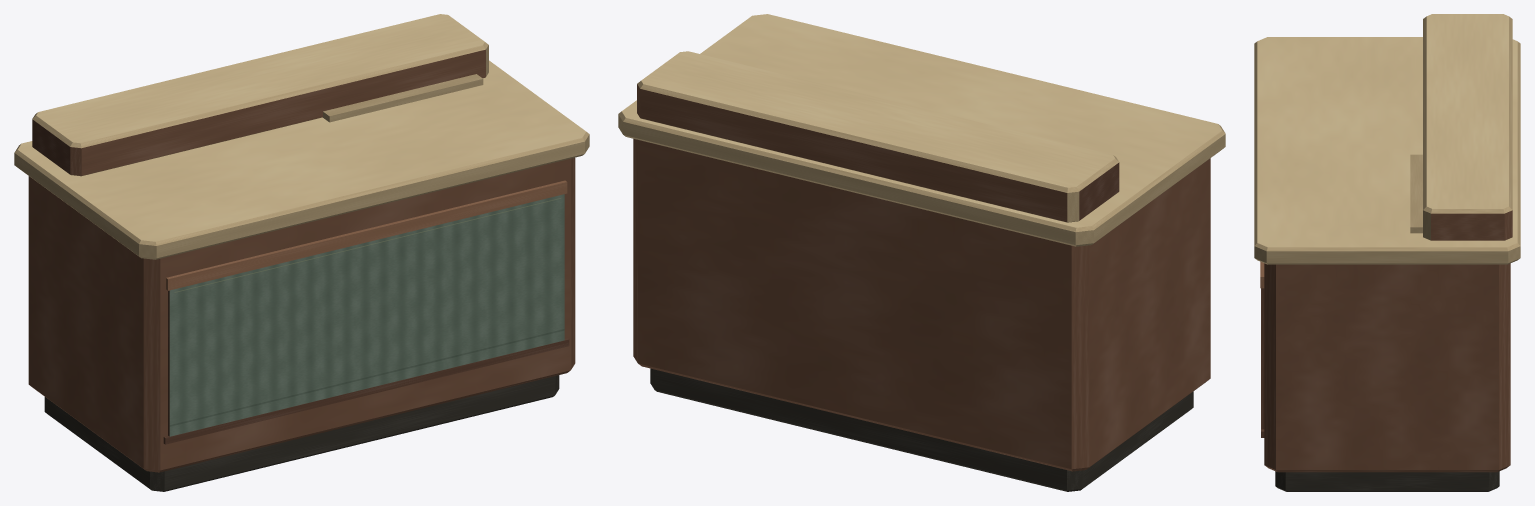
Rendered from retail_island_kiosk.glb.
3 renders of one model, left to right at view 1: azimuth 30°, elevation 25°; view 2: azimuth 150°, elevation 25°; view 3: azimuth 270°, elevation 25°, orthographic. The views are drawn at different scales.
Parts seen in each view (by area): view 1: Retail Island Kiosk; view 2: Retail Island Kiosk; view 3: Retail Island Kiosk.
Boxes of the visible parts, x1=… form: Retail Island Kiosk: x1=14, y1=14, x2=589, y2=491; Retail Island Kiosk: x1=618, y1=14, x2=1225, y2=491; Retail Island Kiosk: x1=1254, y1=14, x2=1520, y2=491.
Bounding box in the file's own units: 1.83 × 1.14 × 0.968.
1 material, 1 textured.
